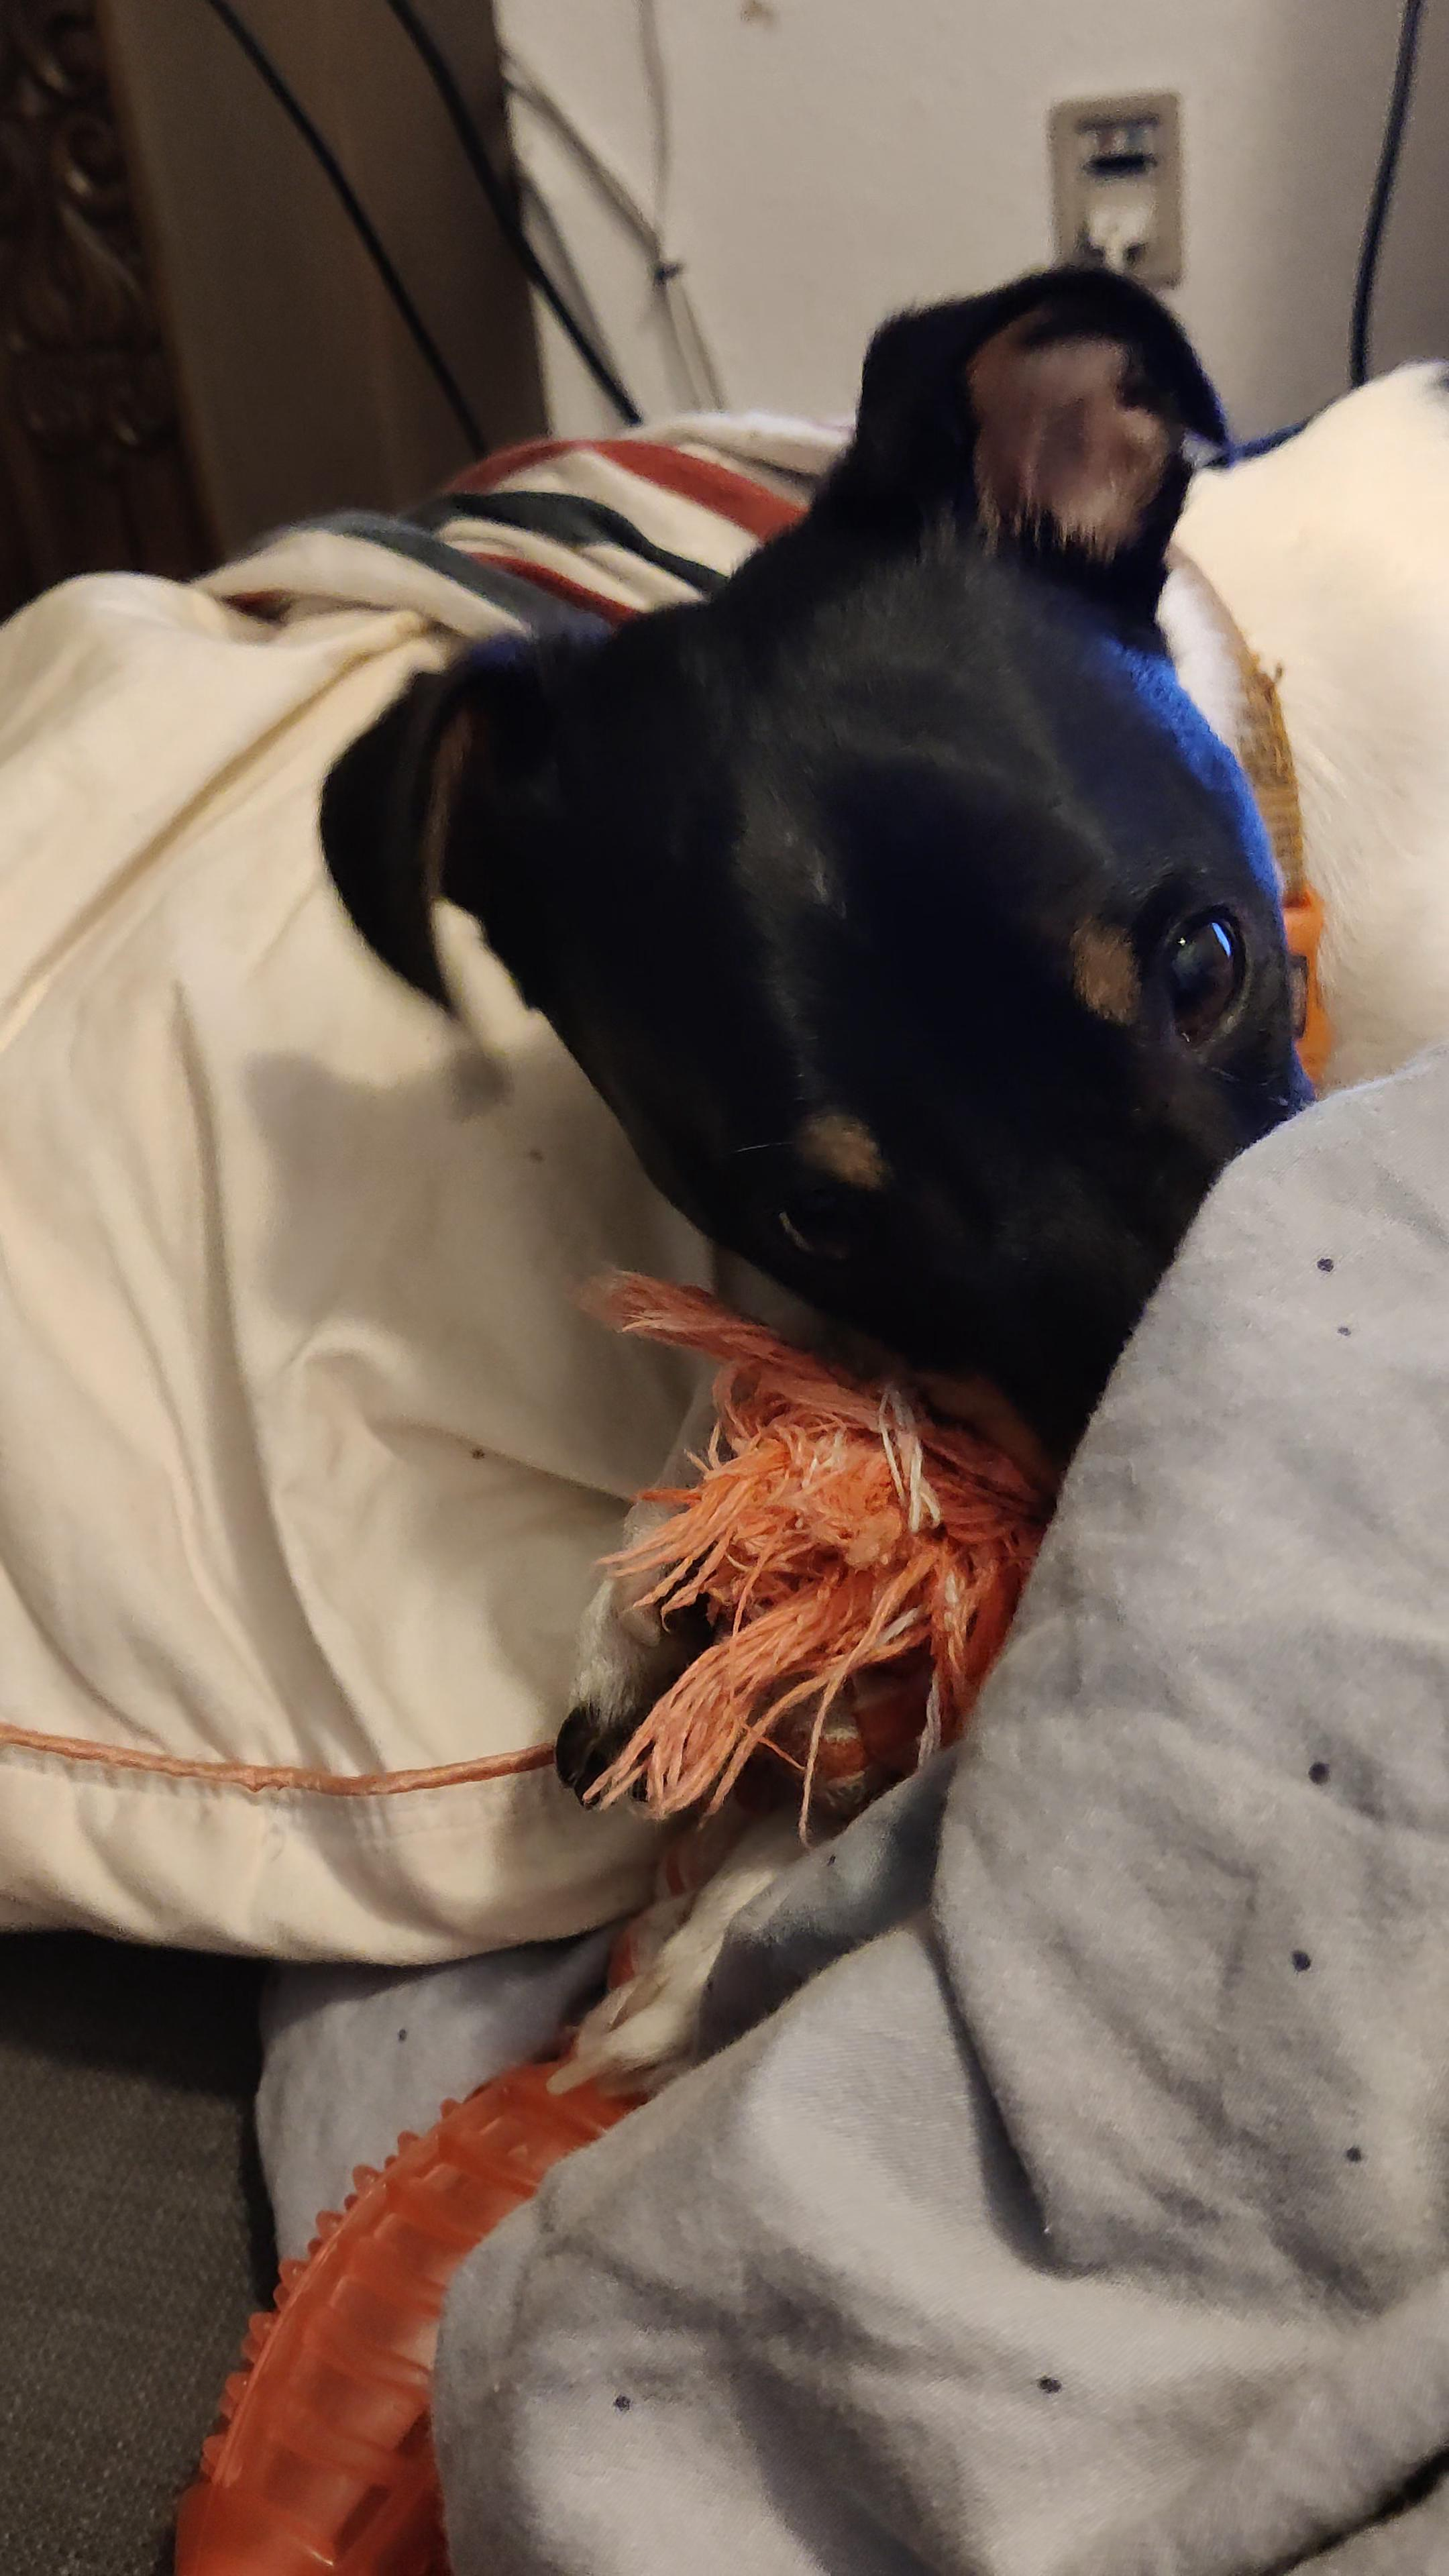Dog: (299, 230, 1449, 2104)
